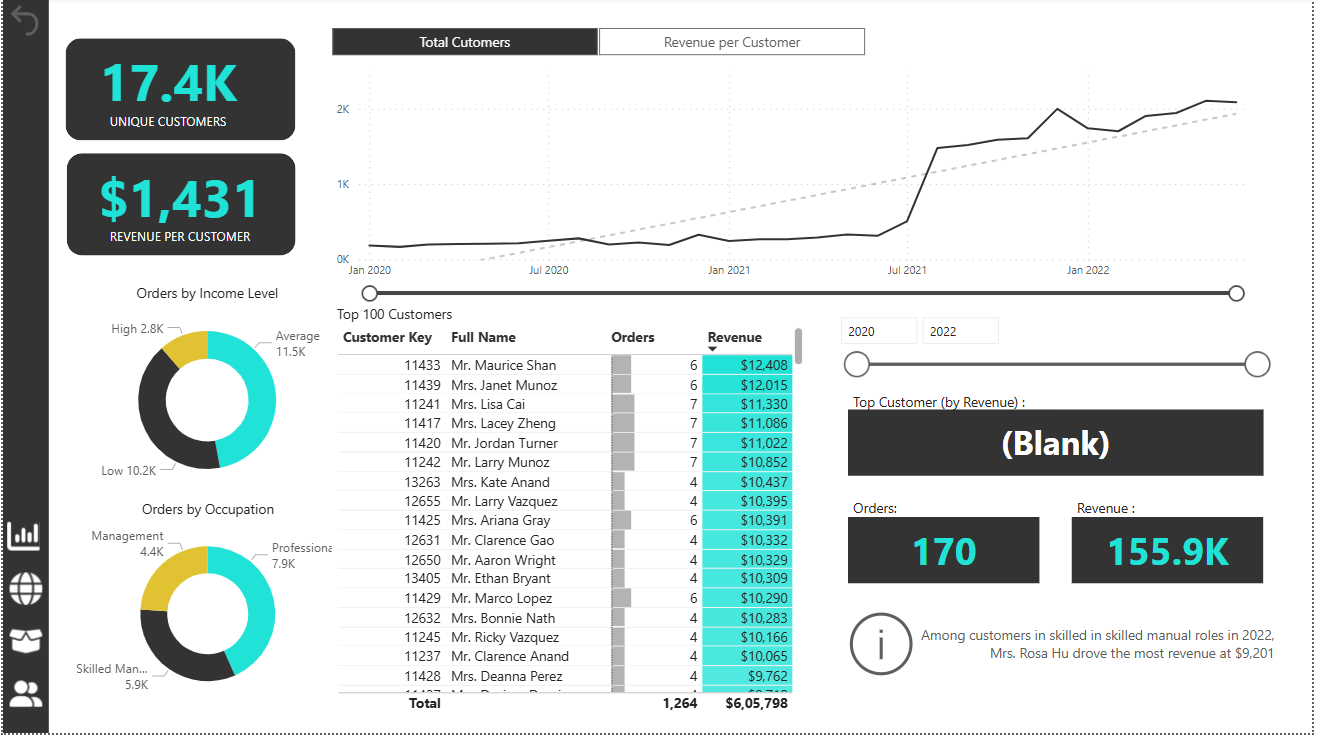

What the dashboard file says about the page in this screenshot:
{"tool":"powerbi","page":{"name":"Customer Detail","canvas":[1280,720],"ordinal":3},"visuals":[{"type":"shape","box":[0,0,45,720],"z":0},{"type":"actionButton","box":[2.5,516.7,45.6,37.8],"z":0,"group":"g1"},{"type":"shape","box":[81.7,30,225,100],"z":1000},{"type":"actionButton","box":[3.3,563.4,45.6,37.8],"z":1000,"group":"g1"},{"type":"actionButton","box":[3.3,611.1,45.6,37.8],"z":2000,"group":"g1"},{"type":"shape","box":[80,152.7,225,100],"z":2000},{"type":"card","fields":{"Values":["Measure Table.Total Customers"]},"box":[66.7,0,256.2,150],"z":3000},{"type":"actionButton","box":[3.3,657.8,45.6,37.8],"z":3000,"group":"g1"},{"type":"card","fields":{"Values":["Measure Table.Average Revenue per Customer"]},"box":[65,122.7,256.2,150],"z":4000},{"type":"lineChart","fields":{"Y":["Measure Table.Total Customers"],"Category":["Calendar Lookup.Date Hierarchy.Year","Calendar Lookup.Date Hierarchy.Start of Month","Calendar Lookup.Date Hierarchy.Start of Week","Calendar Lookup.Date Hierarchy.Date"]},"box":[345.9,63.3,898.6,188.8],"z":5000},{"type":"donutChart","title":"Orders by Income Level","fields":{"Category":["Customer Lookup.Income Level"],"Y":["Measure Table.Total Orders"]},"box":[63.8,272.5,257.5,210],"z":6000},{"type":"donutChart","title":"Orders by Occupation","fields":{"Y":["Measure Table.Total Orders"],"Category":["Customer Lookup.Occupation"]},"box":[63.8,490,257.5,210],"z":7000},{"type":"tableEx","title":"Top 100 Customers","fields":{"Values":["Customer Lookup.CustomerKey","Customer Lookup.Full Name","Measure Table.Total Orders","Measure Table.Total Revenue"]},"box":[346,273.6,449.4,418.4],"z":8000},{"type":"card","fields":{"Values":["Customer Lookup.Full Name"]},"box":[829.6,390.1,414.5,65.1],"z":9000},{"type":"card","fields":{"Values":["Measure Table.Total Orders"]},"box":[829.6,487,190.7,65.1],"z":10000},{"type":"card","fields":{"Values":["Measure Table.Total Revenue"]},"box":[1048.7,487,195.4,65.1],"z":11000},{"type":"textbox","box":[829.6,361.7,190.7,37.9],"z":12000},{"type":"textbox","box":[829.6,458.4,190.7,37.9],"z":13000},{"type":"textbox","box":[1048.7,458.4,190.7,37.9],"z":14000},{"type":"slicer","fields":{"Values":["Calendar Lookup.Year"]},"box":[811.6,272.4,432.9,80.3],"z":15000},{"type":"actionButton","box":[830,586.7,410,56.7],"z":16000},{"type":"actionButton","box":[3.3,5.6,35.6,35.6],"z":17000},{"type":"group","id":"g1","title":"Navigation Buttons","box":[2.5,516.7,46.4,178.9],"z":18000},{"type":"slicer","fields":{"Values":["Customer Metric Selection.Customer Metric Selection"]},"box":[323.3,27.1,415.9,36.2],"z":19000}]}

Visuals, with their boxes on the page's 1280x720 design canvas (x1, y1, x2, y2). These are canvas units, not pixel positions in the 1318x736 screenshot, which may show the page scaled, cropped or inside an application window:
shape: 0,0,45,720
actionButton: 2,517,48,554
shape: 82,30,307,130
actionButton: 3,563,49,601
actionButton: 3,611,49,649
shape: 80,153,305,253
card - Measure Table.Total Customers: 67,0,323,150
actionButton: 3,658,49,696
card - Measure Table.Average Revenue per Customer: 65,123,321,273
lineChart - Measure Table.Total Customers x Calendar Lookup.Date Hierarchy.Year: 346,63,1244,252
"Orders by Income Level" donutChart: 64,272,321,482
"Orders by Occupation" donutChart: 64,490,321,700
"Top 100 Customers" tableEx: 346,274,795,692
card - Customer Lookup.Full Name: 830,390,1244,455
card - Measure Table.Total Orders: 830,487,1020,552
card - Measure Table.Total Revenue: 1049,487,1244,552
textbox: 830,362,1020,400
textbox: 830,458,1020,496
textbox: 1049,458,1239,496
slicer - Calendar Lookup.Year: 812,272,1244,353
actionButton: 830,587,1240,643
actionButton: 3,6,39,41
"Navigation Buttons" group: 2,517,49,696
slicer - Customer Metric Selection.Customer Metric Selection: 323,27,739,63
